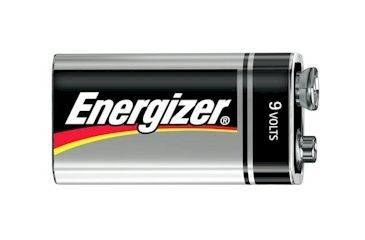9V: (45, 48, 324, 190)
